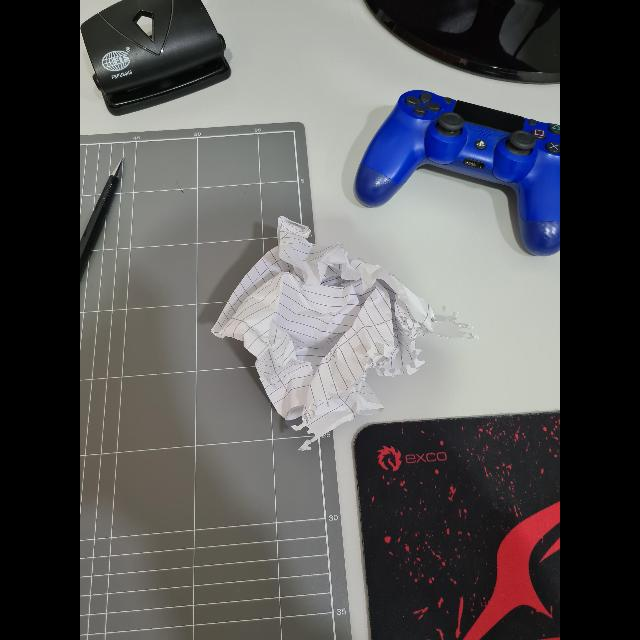scrap_paper: (212, 212, 464, 434)
